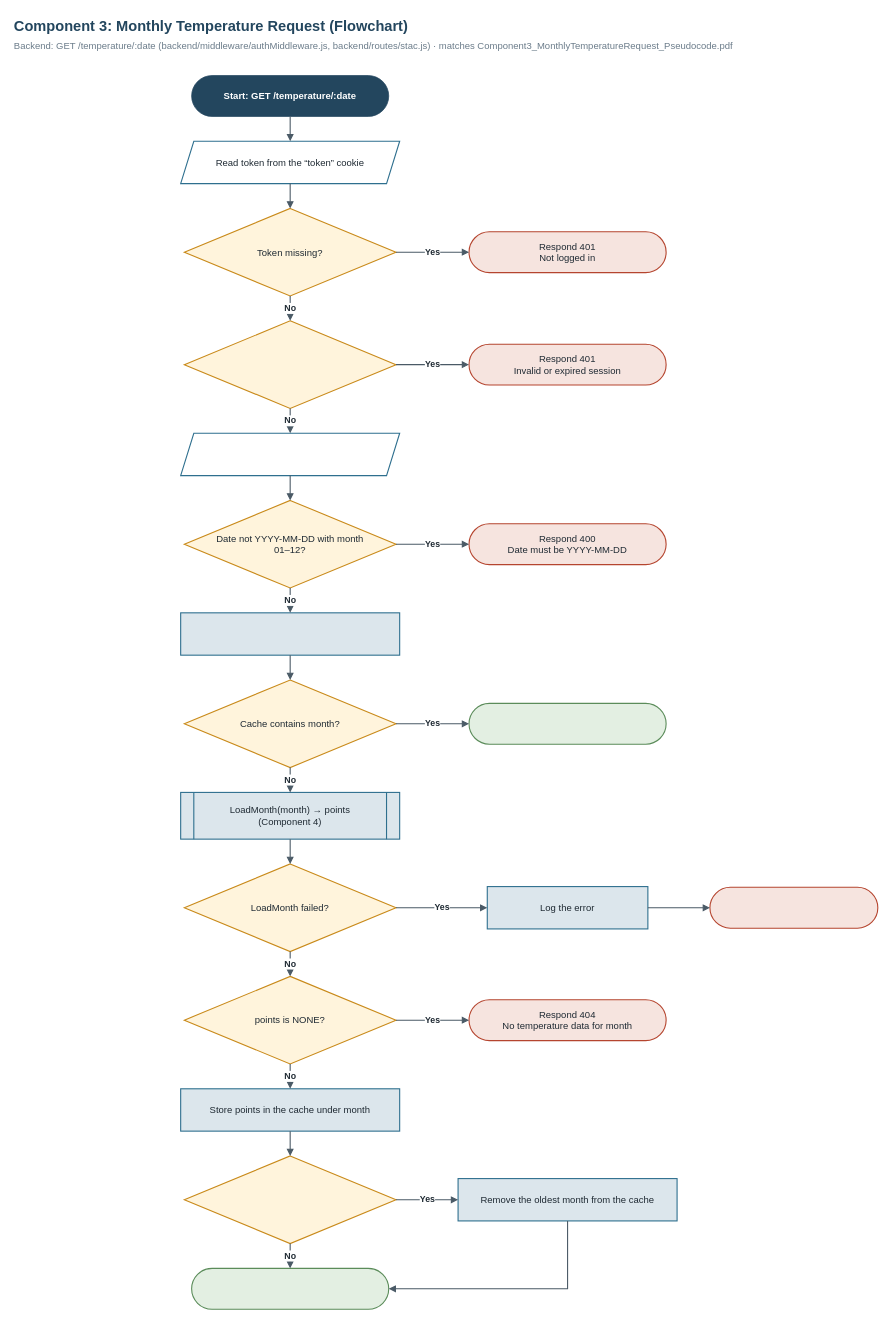
This 891x1322 diagram has some shape labels left out. The centre of each missing label's shape, as x and y in pixels:
"Cache holds more than 24 months?" belongs at pixel 289 1199.
"month ← year and month of date (YYYY-MM)" belongs at pixel 290 633.
"Read date from the request path" belongs at pixel 290 454.
"Respond 200 with points" belongs at pixel 290 1288.
"Respond 200 with the cached points" belongs at pixel 567 723.
"Respond 502 data service unavailable" belongs at pixel 793 907.
"Signature invalid or token expired?" belongs at pixel 289 364.
